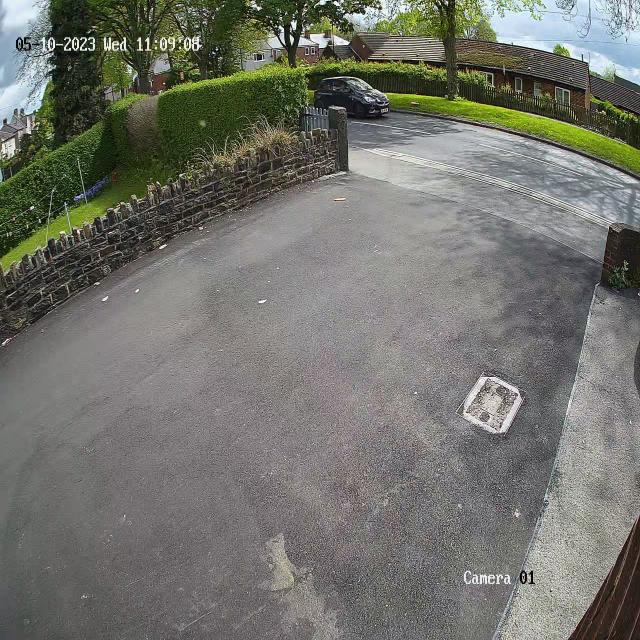vehicle: (308, 67, 398, 126)
